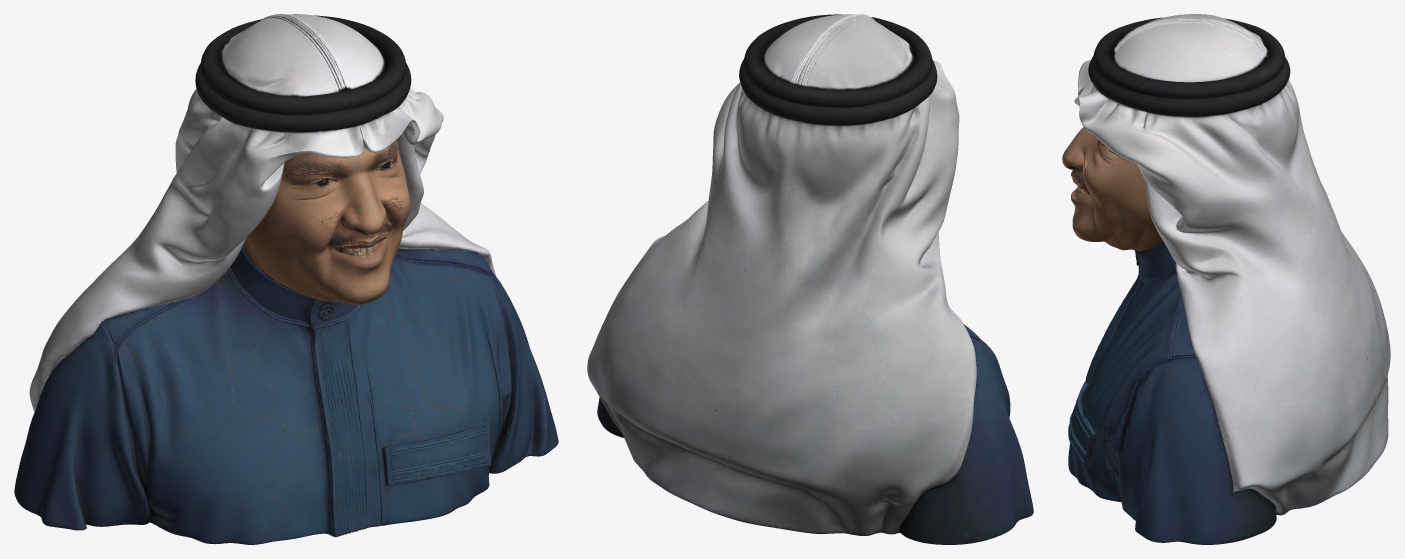
The model's file is Abdo-Ab3ad3d.preview-v1.glb.
The picture shows the model from 3 angles, left to right: view 1: azimuth 30°, elevation 25°; view 2: azimuth 150°, elevation 25°; view 3: azimuth 270°, elevation 25°; orthographic projection. The views are drawn at different scales.
Parts seen in each view (by area): view 1: tmpp8o9evwnobj; view 2: tmpp8o9evwnobj; view 3: tmpp8o9evwnobj.
Part boxes in pixels (left/top/right/bottom): tmpp8o9evwnobj: left=14, top=14, right=558, bottom=544; tmpp8o9evwnobj: left=587, top=14, right=1033, bottom=544; tmpp8o9evwnobj: left=1062, top=14, right=1390, bottom=544.
Bounding box in the file's own units: 1 × 0.9228 × 0.6566.
Materials: 1 (1 with a texture image).
